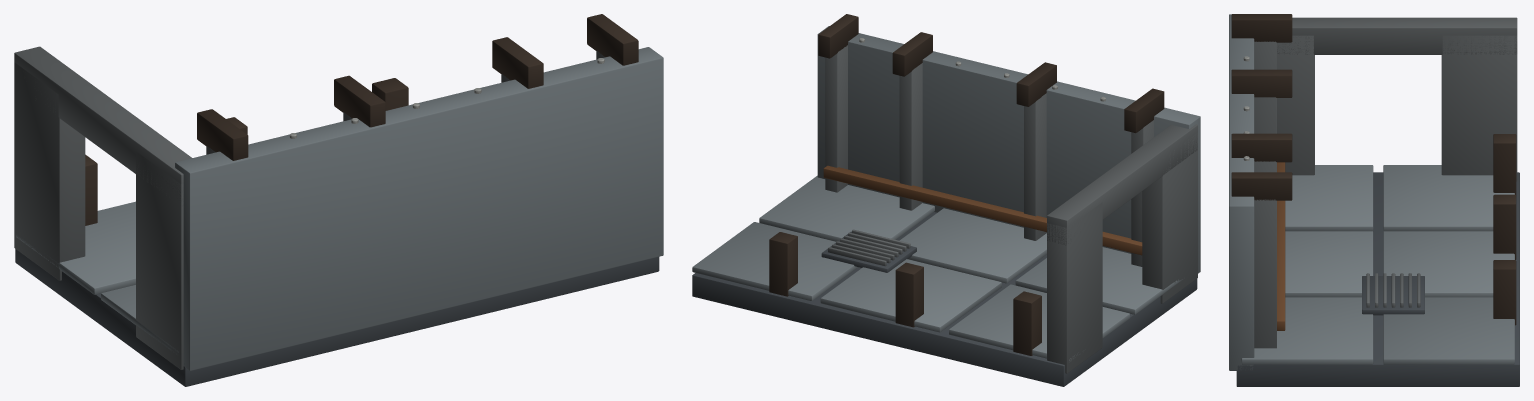
File: hull_section.glb
3 renders of one model, left to right at view 1: azimuth 30°, elevation 25°; view 2: azimuth 150°, elevation 25°; view 3: azimuth 270°, elevation 25°, orthographic. The views are drawn at different scales.
Parts seen in each view (by area): view 1: hull_section; view 2: hull_section; view 3: hull_section.
Boxes of the visible parts, left/top/right/bottom form: hull_section: left=14, top=14, right=663, bottom=386; hull_section: left=692, top=14, right=1200, bottom=386; hull_section: left=1229, top=14, right=1519, bottom=386.
Size of the model in its own units: 1.58 by 0.7563 by 0.9997.
